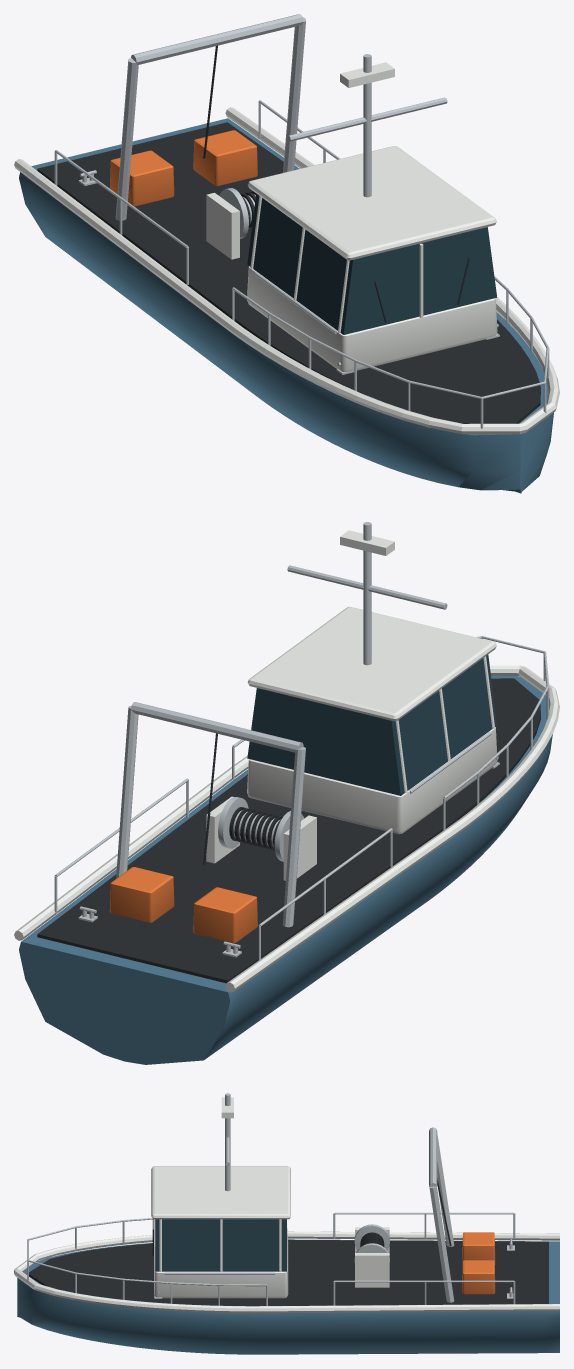
The model's file is trawler.glb.
3 renders of one model, top to bottom at view 1: azimuth 30°, elevation 25°; view 2: azimuth 150°, elevation 25°; view 3: azimuth 270°, elevation 25°, orthographic. The views are drawn at different scales.
Parts seen in each view (by area): view 1: fishing-trawler, net-winch; view 2: fishing-trawler, net-winch; view 3: fishing-trawler, net-winch.
Boxes of the visible parts, x1,y1,x2,y2 form: fishing-trawler: (14, 14, 559, 493); net-winch: (219, 188, 255, 238); fishing-trawler: (14, 522, 559, 1064); net-winch: (218, 797, 303, 861); fishing-trawler: (14, 1093, 559, 1354); net-winch: (354, 1224, 389, 1262).
Size of the model in its own units: 3.65 by 5.36 by 10.77.
